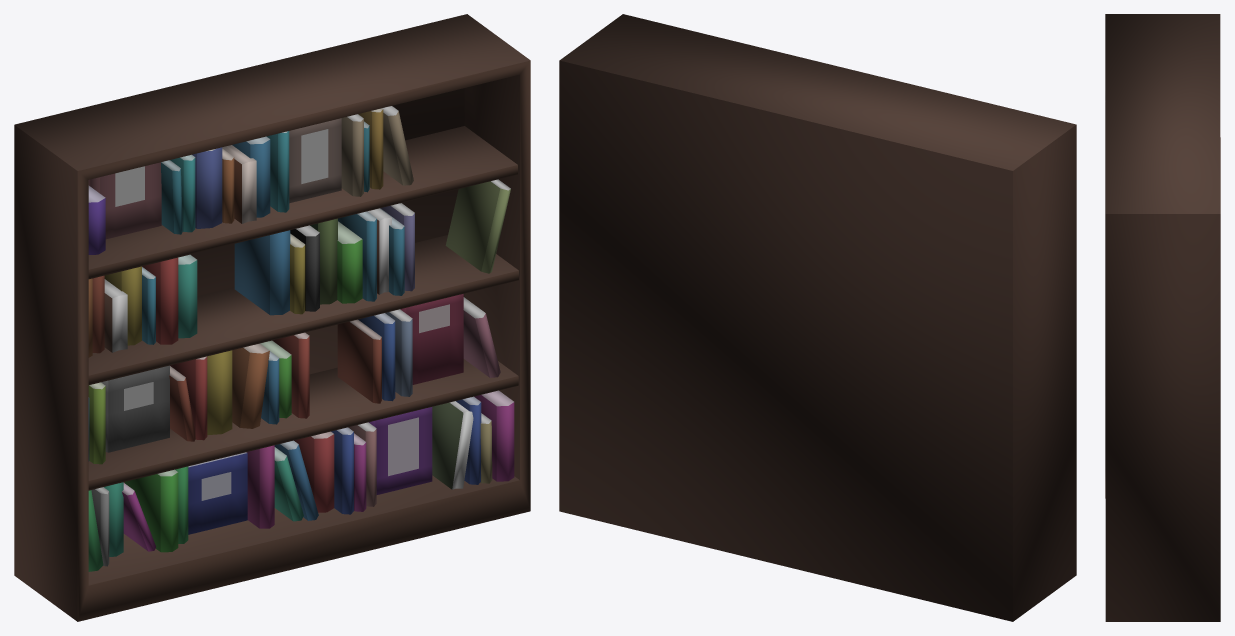
The picture shows the model from 3 angles, left to right: view 1: azimuth 30°, elevation 25°; view 2: azimuth 150°, elevation 25°; view 3: azimuth 270°, elevation 25°; orthographic projection. The views are drawn at different scales.
Visible parts, largest first — view 1: alt36; view 2: alt36; view 3: alt36.
Boxes of the visible parts, x1,y1,x2,y2 form: alt36: (14, 14, 530, 621); alt36: (559, 14, 1076, 621); alt36: (1105, 14, 1220, 621).
Size of the model in its own units: 0.5 by 0.4752 by 0.1216.
